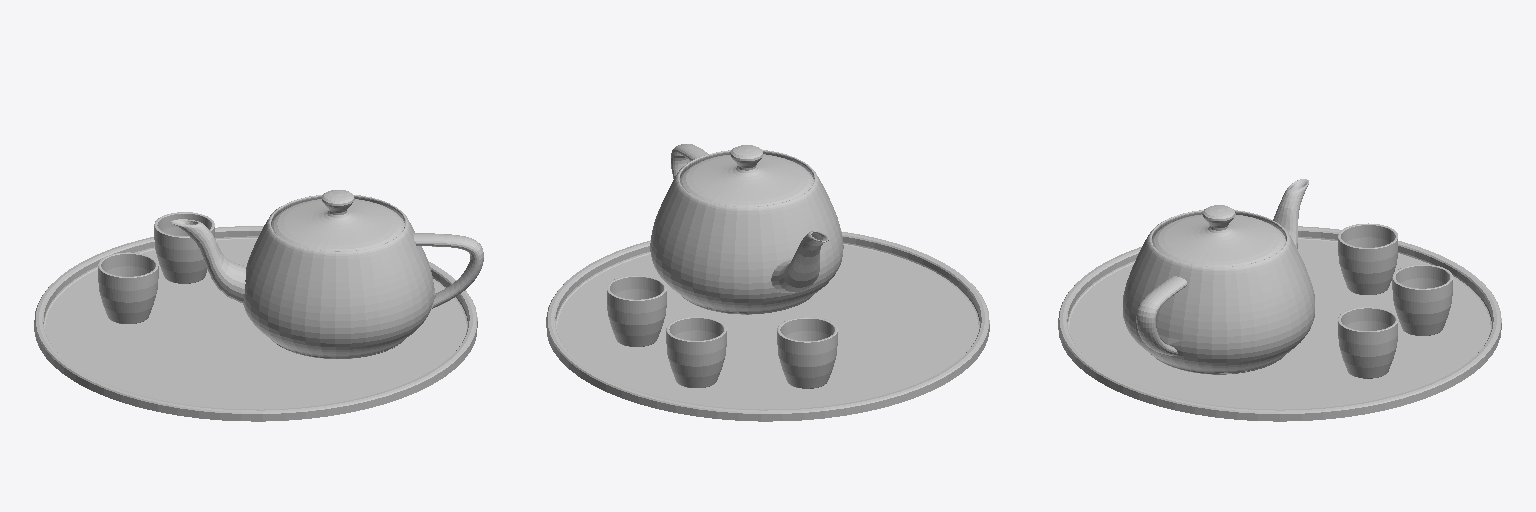
The model's file is teapot_n_glass.obj.
3 renders of one model, left to right at view 1: azimuth 30°, elevation 25°; view 2: azimuth 150°, elevation 25°; view 3: azimuth 270°, elevation 25°, orthographic.
Visible parts, largest first — view 1: Circle, Teapot, Cylinder.002, Cylinder; view 2: Circle, Teapot, Cylinder.002, Cylinder, Cylinder.001; view 3: Circle, Teapot, Cylinder, Cylinder.001, Cylinder.002.
Part boxes in pixels (x1,y1,x2,y2): Circle: (34, 226, 477, 421); Teapot: (171, 190, 483, 358); Cylinder.002: (98, 252, 158, 323); Cylinder: (154, 212, 214, 283); Circle: (546, 231, 989, 421); Teapot: (650, 144, 843, 314); Cylinder.002: (777, 317, 837, 388); Cylinder: (666, 317, 726, 387); Cylinder.001: (607, 275, 666, 346); Circle: (1058, 226, 1501, 421); Teapot: (1123, 179, 1314, 374); Cylinder: (1392, 264, 1452, 335); Cylinder.001: (1338, 307, 1397, 378); Cylinder.002: (1338, 223, 1397, 294).
Size of the model in its own units: 9.04 by 3.24 by 9.04.